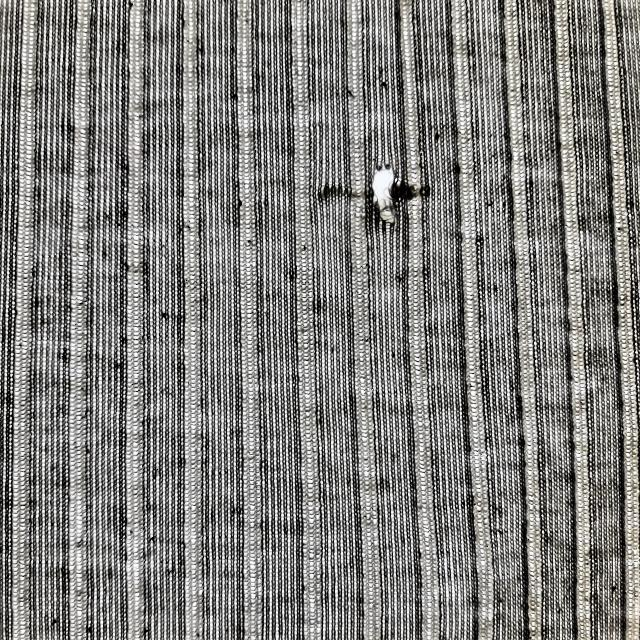Hole: (369, 156, 414, 224), (319, 170, 370, 212), (394, 176, 442, 208)
